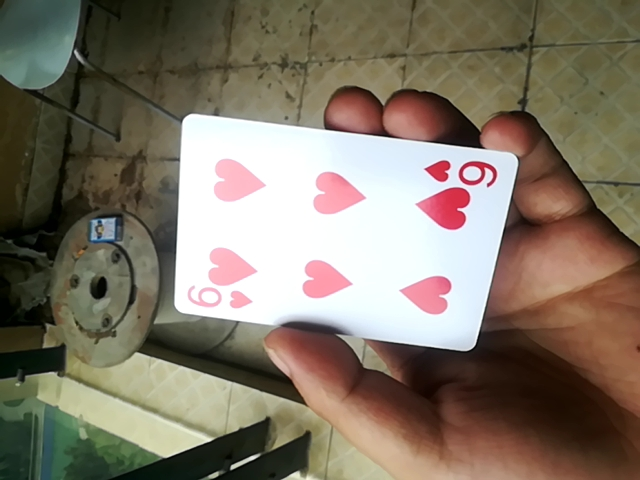hx 6: (167, 113, 516, 355)
